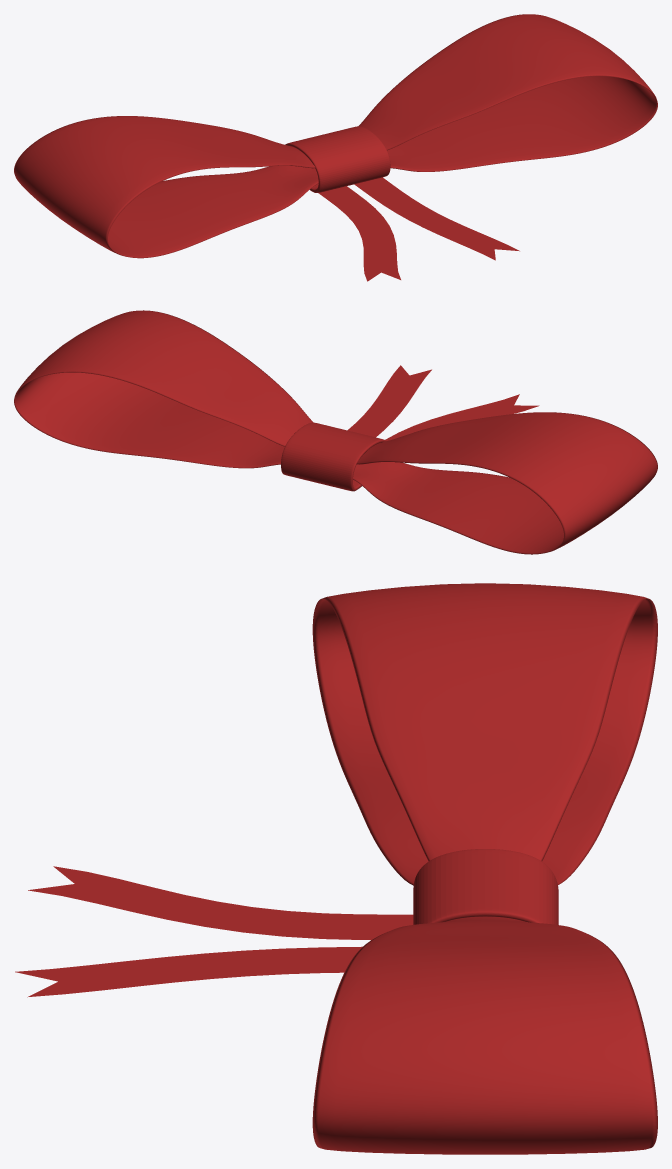
Rendered from ribbon_bow.glb.
3 views of the same model, one above another, from view 1: azimuth 30°, elevation 25°; view 2: azimuth 150°, elevation 25°; view 3: azimuth 270°, elevation 25° (orthographic). The views are drawn at different scales.
Visible parts, largest first — view 1: bow ears, bow tail, bow knot; view 2: bow ears, bow knot, bow tail; view 3: bow ears, bow tail, bow knot.
Part boxes in pixels (<box>): bow ears: <box>14,14,657,258</box>; bow tail: <box>318,177,519,281</box>; bow knot: <box>285,126,390,192</box>; bow ears: <box>14,310,657,554</box>; bow knot: <box>281,422,386,491</box>; bow tail: <box>347,365,539,440</box>; bow ears: <box>312,583,657,1154</box>; bow tail: <box>15,866,413,997</box>; bow knot: <box>413,849,558,924</box>.
Size of the model in its own units: 3.96 by 0.5491 by 2.12.
